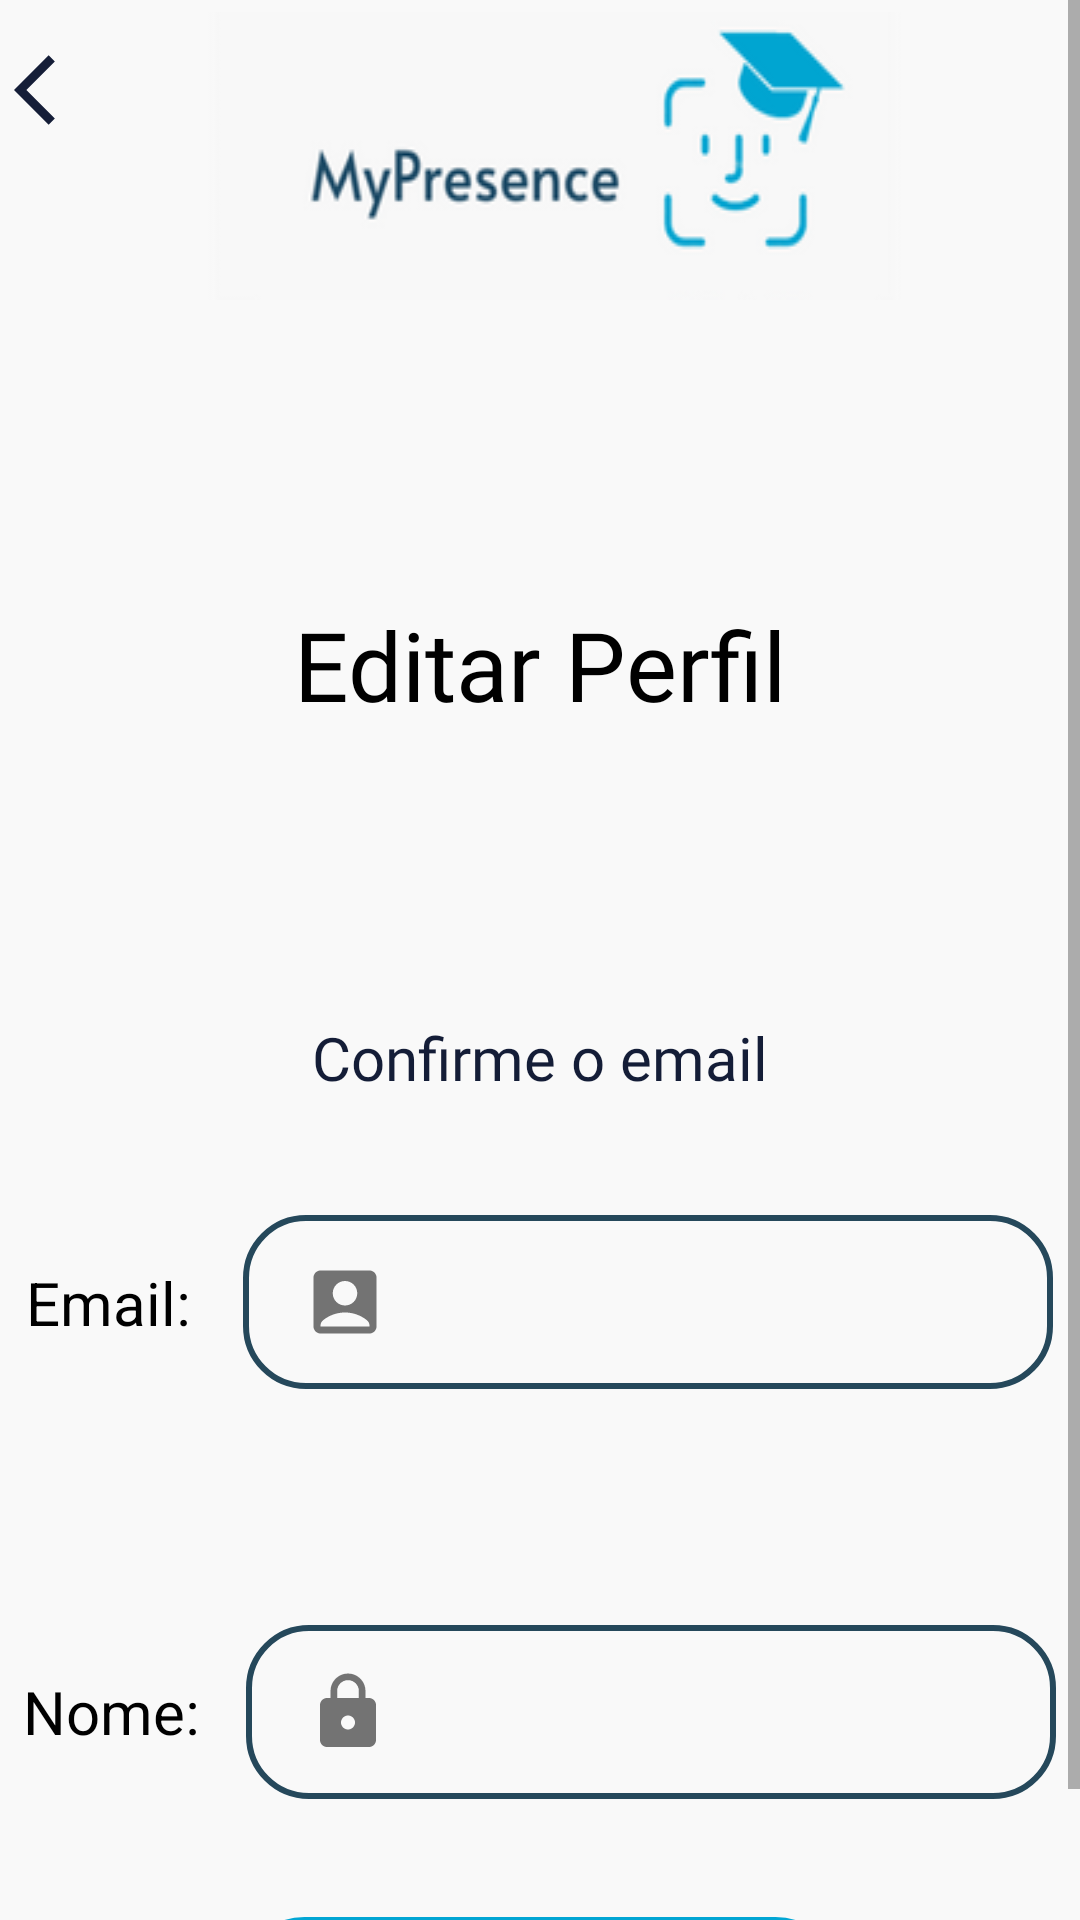

Where to tap for icons on this 1080 × 1920 app screen, as (x=x, y=y):
imgback: (x=34, y=90)
